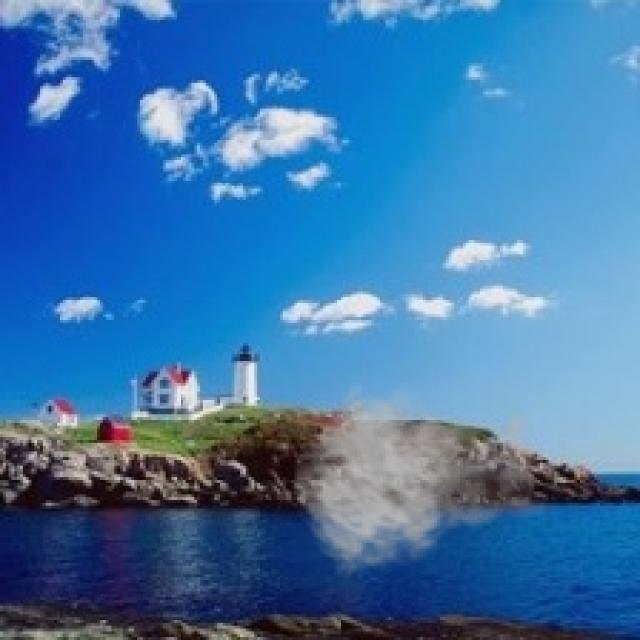Smoke: (292, 377, 554, 577)
